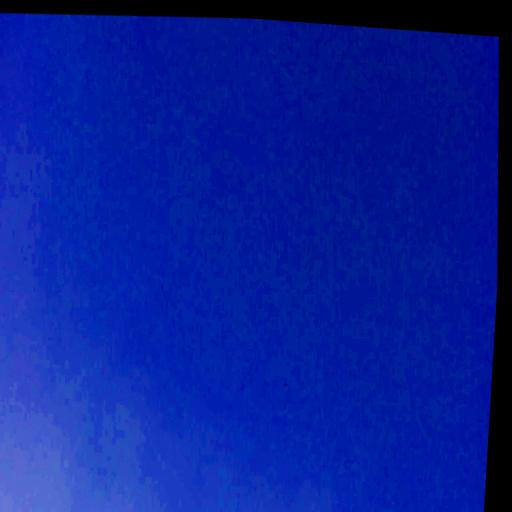drones: (282, 381, 289, 391)
